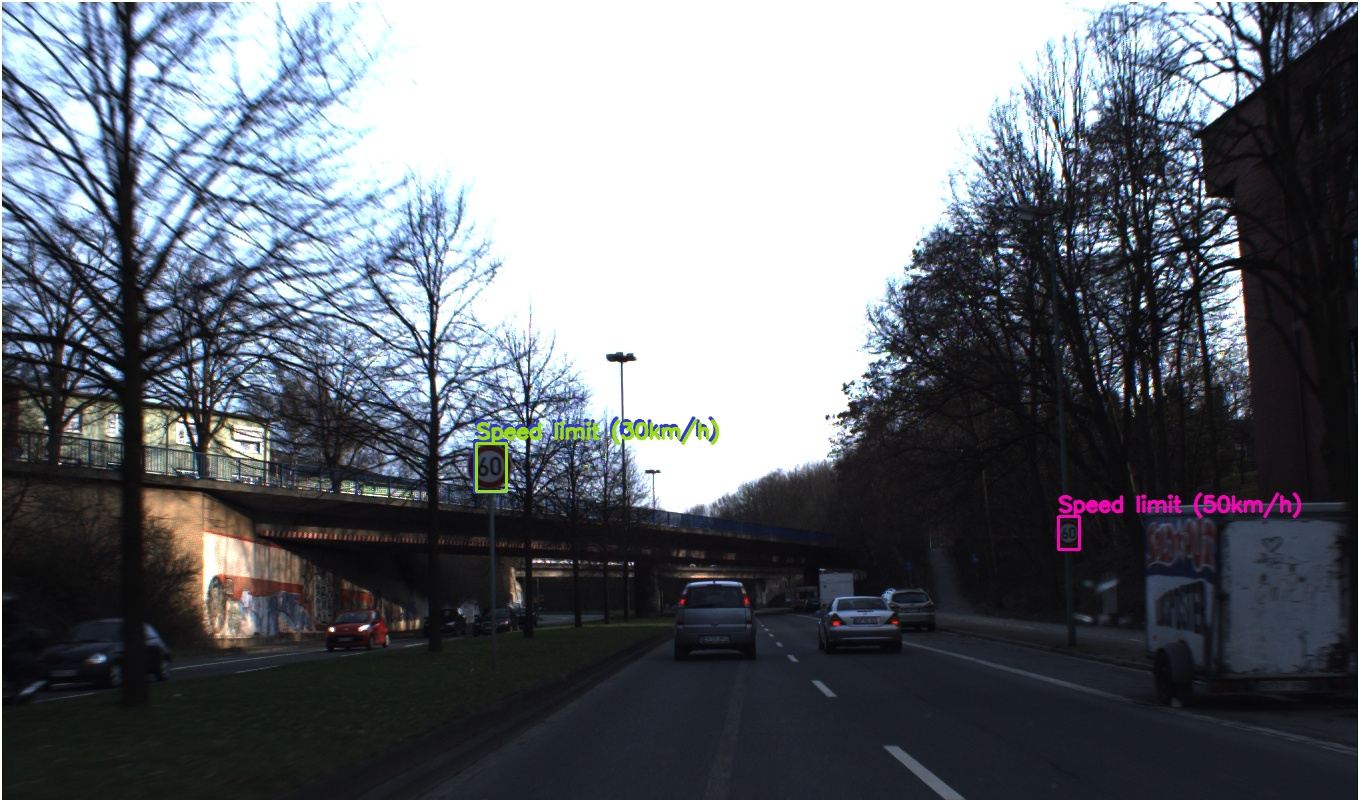General caution: (318, 439, 345, 467)
Speed limit (30km/h): (209, 426, 236, 453), (601, 431, 626, 456)
